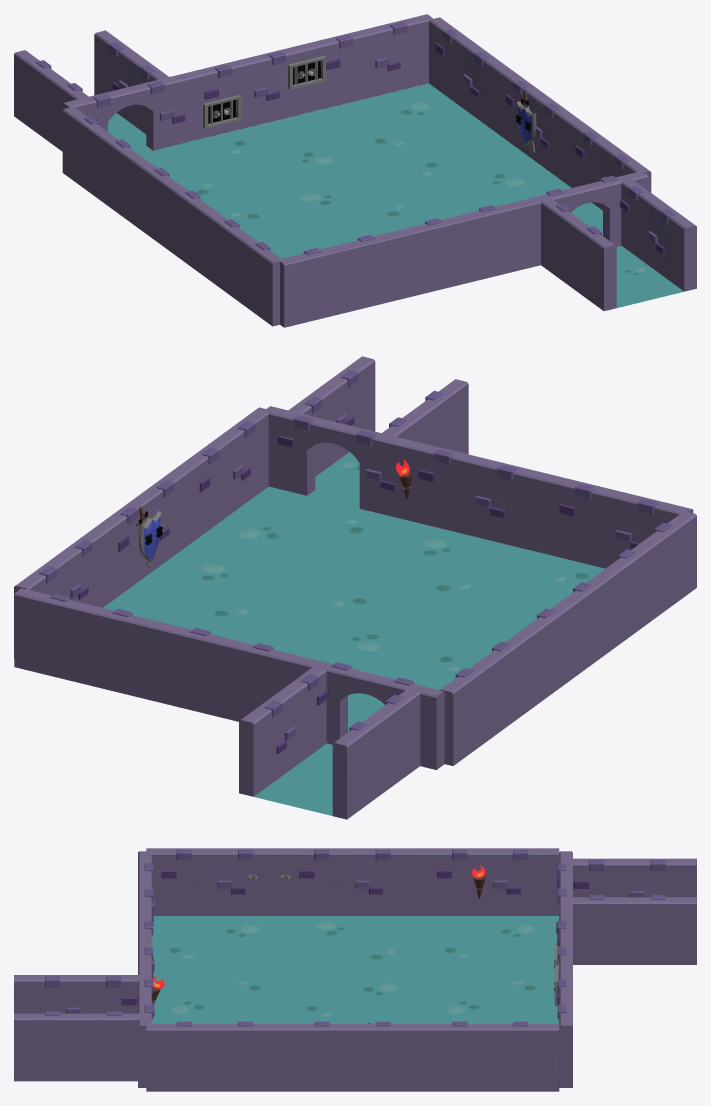
Rendered from RoomEmptyBake.glb.
3 renders of one model, top to bottom at view 1: azimuth 30°, elevation 25°; view 2: azimuth 150°, elevation 25°; view 3: azimuth 270°, elevation 25°, orthographic. The views are drawn at different scales.
Parts seen in each view (by area): view 1: Bake; view 2: Bake; view 3: Bake.
Part boxes in pixels (x1,y1,x2,y2): Bake: [14, 14, 696, 327]; Bake: [14, 356, 696, 819]; Bake: [14, 848, 696, 1091].
Bounding box in the file's own units: 31.21 × 5.1 × 49.61.
Materials: 3 (1 with a texture image).
